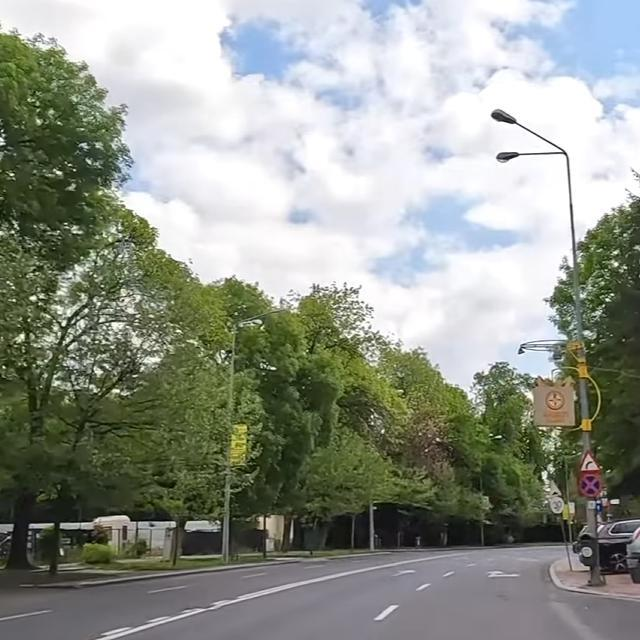forb_waiting: (579, 473, 603, 498)
